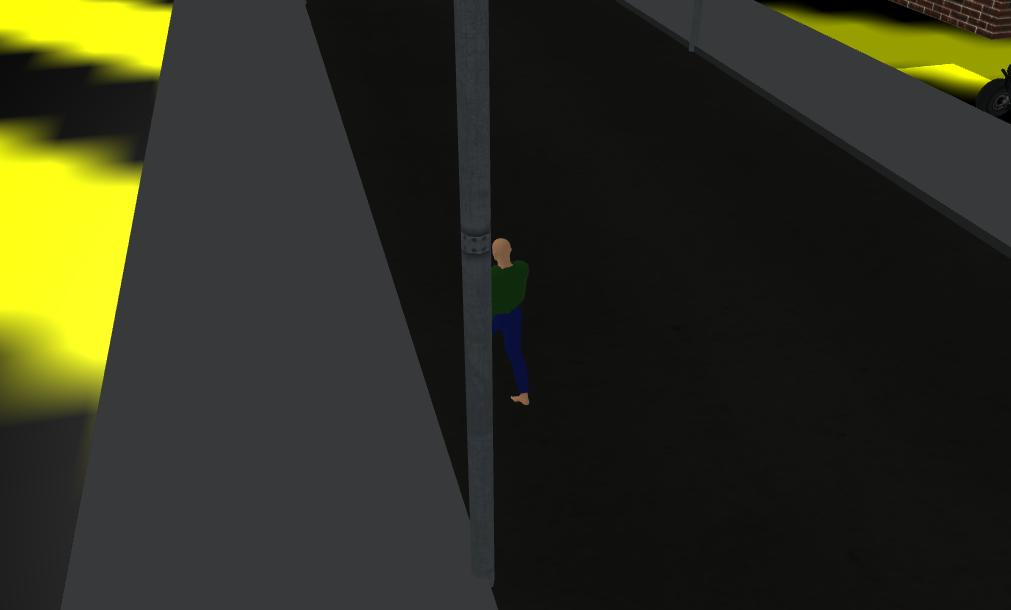human: (493, 224, 539, 410)
street light: (449, 18, 495, 586)
